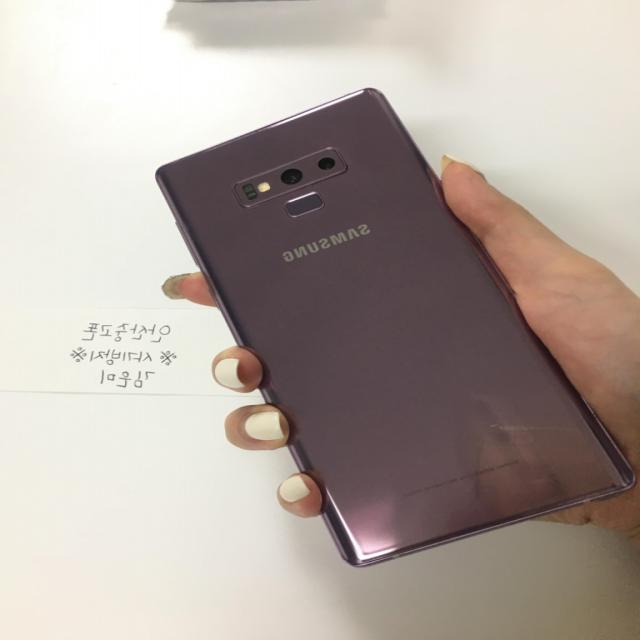mobile: (151, 86, 636, 575)
